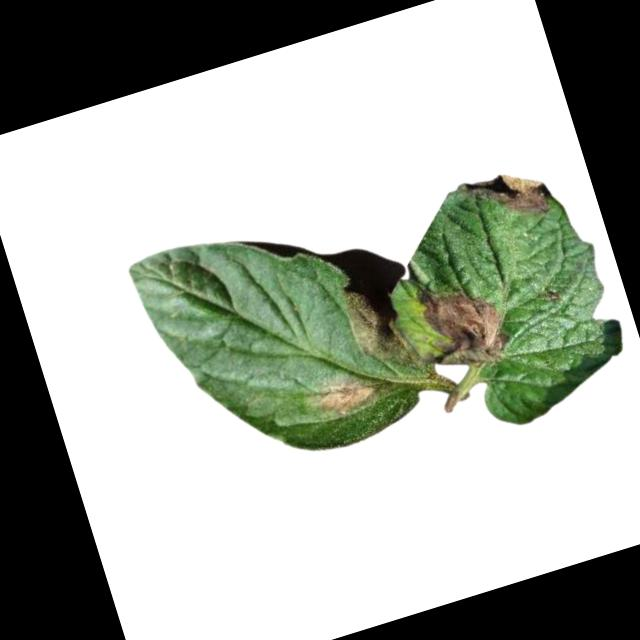Late_blight: (413, 263, 516, 379), (339, 273, 424, 382), (457, 160, 554, 233), (309, 365, 387, 424), (544, 286, 562, 304)
